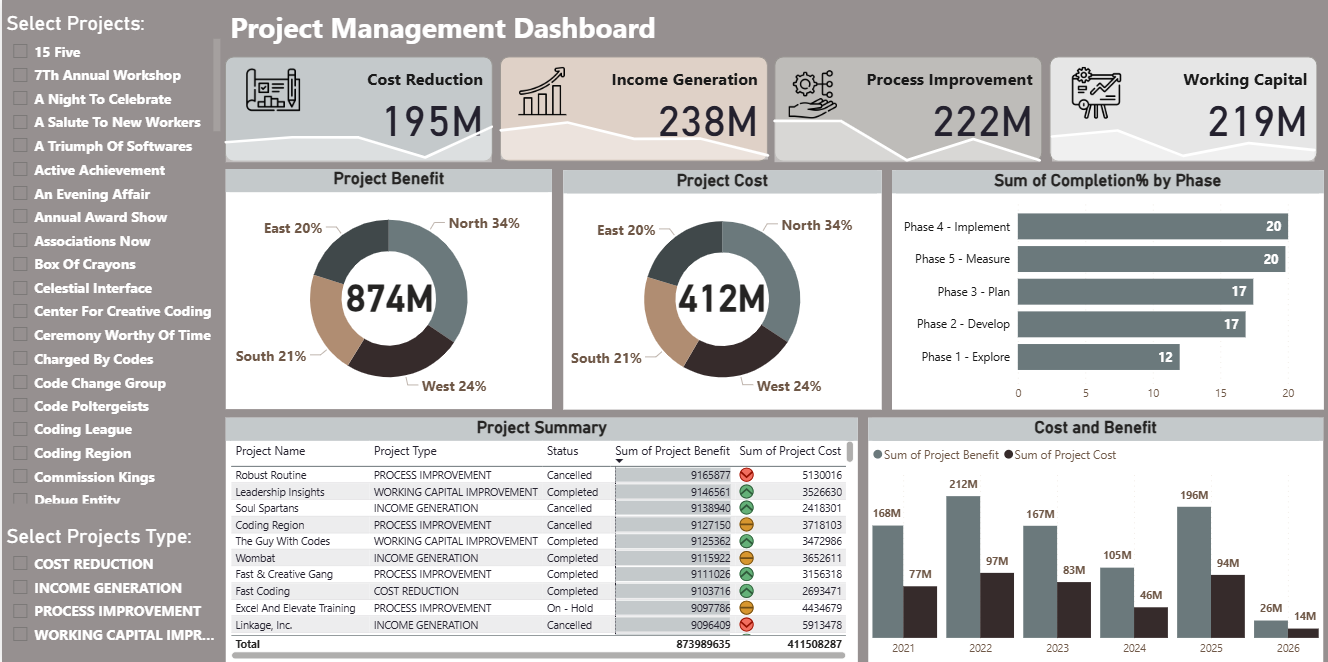

The dashboard page shown, as its layout file describes it:
{"tool":"powerbi","page":{"name":"Page 1","canvas":[1520,760],"ordinal":0},"visuals":[{"type":"cardVisual","fields":{"Data":["Cost Reduction.Cost Reduction","Mesaures.Income Generation","Process Improvement.Process Improvement","Process Improvement.Working Capital"]},"box":[250,65.7,1260,120],"z":0},{"type":"slicer","title":"Select Projects:","fields":{"Values":["Project Management Dataset.Project Name"]},"box":[0,14.3,254.3,567.1],"z":1000},{"type":"slicer","title":"Select Projects Type:","fields":{"Values":["Project Management Dataset.Project Type"]},"box":[0,599.6,254.6,160.4],"z":2000},{"type":"clusteredBarChart","fields":{"Y":["Sum(Project Management Dataset.Completion%)"],"Category":["Project Management Dataset.Phase"]},"box":[1016.7,195.6,493.3,273.3],"z":3000},{"type":"donutChart","title":"Project Benefit","fields":{"Y":["Sum(Project Management Dataset.Project Benefit)"],"Category":["Project Management Dataset.Region"]},"box":[256.2,194.8,373.1,274.6],"z":4000,"group":"g1"},{"type":"clusteredColumnChart","title":"Cost and Benefit","fields":{"Category":["Project Management Dataset.End Date.Variation.Date Hierarchy.Year"],"Y":["Sum(Project Management Dataset.Project Benefit)","Sum(Project Management Dataset.Project Cost)"]},"box":[990,478.5,520,281.5],"z":4000},{"type":"donutChart","title":"Project Cost ","fields":{"Y":["Sum(Project Management Dataset.Project Cost)"],"Category":["Project Management Dataset.Region"]},"box":[641.2,195,363.8,273.8],"z":5000,"group":"g2"},{"type":"tableEx","title":"Project Summary","fields":{"Values":["Project Management Dataset.Project Name","Project Management Dataset.Project Type","Project Management Dataset.Status","Sum(Project Management Dataset.Project Benefit)","Sum(Project Management Dataset.Project Cost)"]},"box":[256.2,478.8,722.5,281.2],"z":5000},{"type":"textbox","box":[256.2,6.2,606.2,60],"z":6000},{"type":"areaChart","fields":{"Category":["Project Management Dataset.Start Date.Variation.Date Hierarchy.Year"],"Y":["Process Improvement.Cost Reduction"]},"box":[245,126,324,62],"z":7000},{"type":"areaChart","fields":{"Category":["Project Management Dataset.Start Date.Variation.Date Hierarchy.Year"],"Y":["Process Improvement.Income Generation"]},"box":[560,130.8,325.4,53.1],"z":8000},{"type":"areaChart","fields":{"Category":["Project Management Dataset.Start Date.Variation.Date Hierarchy.Year"],"Y":["Process Improvement.Process Improvement"]},"box":[872.3,125.4,323.1,60.8],"z":9000},{"type":"areaChart","fields":{"Category":["Project Management Dataset.Start Date.Variation.Date Hierarchy.Year"],"Y":["Process Improvement.Working Capital"]},"box":[1190,125.4,320,60],"z":10000},{"type":"image","box":[1215,72.5,70,68.8],"z":11000},{"type":"image","box":[893.8,76.2,65,66.2],"z":12000},{"type":"image","box":[273.8,66.2,71.2,76.2],"z":13000},{"type":"image","box":[583.8,72.5,66.2,65],"z":14000},{"type":"group","id":"g1","title":"Group 1","box":[256.2,194.8,372.5,275],"z":15000},{"type":"group","id":"g2","title":"Group 2","box":[641.2,195,363.8,273.8],"z":16000},{"type":"card","fields":{"Values":["Sum(Project Management Dataset.Project Cost)"]},"box":[719.6,248.8,206.2,175],"z":18000,"group":"g2"},{"type":"card","fields":{"Values":["Sum(Project Management Dataset.Project Benefit)"]},"box":[334.1,250.7,218,176],"z":18001,"group":"g1"}]}

Visuals, with their boxes in screenshot pixels (x1, y1, x2, y2), scaled from the page's 1520x760 canvas onto the 1328x662 screenshot:
cardVisual - Cost Reduction.Cost Reduction x Mesaures.Income Generation: x1=218 y1=57 x2=1319 y2=162
"Select Projects:" slicer: x1=0 y1=12 x2=222 y2=506
"Select Projects Type:" slicer: x1=0 y1=522 x2=222 y2=661
clusteredBarChart - Sum(Project Management Dataset.Completion%) x Project Management Dataset.Phase: x1=888 y1=170 x2=1319 y2=408
"Project Benefit" donutChart: x1=224 y1=170 x2=550 y2=409
"Cost and Benefit" clusteredColumnChart: x1=865 y1=417 x2=1319 y2=661
"Project Cost " donutChart: x1=560 y1=170 x2=878 y2=408
"Project Summary" tableEx: x1=224 y1=417 x2=855 y2=661
textbox: x1=224 y1=5 x2=753 y2=58
areaChart - Project Management Dataset.Start Date.Variation.Date Hierarchy.Year x Process Improvement.Cost Reduction: x1=214 y1=110 x2=497 y2=164
areaChart - Project Management Dataset.Start Date.Variation.Date Hierarchy.Year x Process Improvement.Income Generation: x1=489 y1=114 x2=774 y2=160
areaChart - Project Management Dataset.Start Date.Variation.Date Hierarchy.Year x Process Improvement.Process Improvement: x1=762 y1=109 x2=1044 y2=162
areaChart - Project Management Dataset.Start Date.Variation.Date Hierarchy.Year x Process Improvement.Working Capital: x1=1040 y1=109 x2=1319 y2=161
image: x1=1062 y1=63 x2=1123 y2=123
image: x1=781 y1=66 x2=838 y2=124
image: x1=239 y1=58 x2=301 y2=124
image: x1=510 y1=63 x2=568 y2=120
"Group 1" group: x1=224 y1=170 x2=549 y2=409
"Group 2" group: x1=560 y1=170 x2=878 y2=408
card - Sum(Project Management Dataset.Project Cost): x1=629 y1=217 x2=809 y2=369
card - Sum(Project Management Dataset.Project Benefit): x1=292 y1=218 x2=482 y2=372
